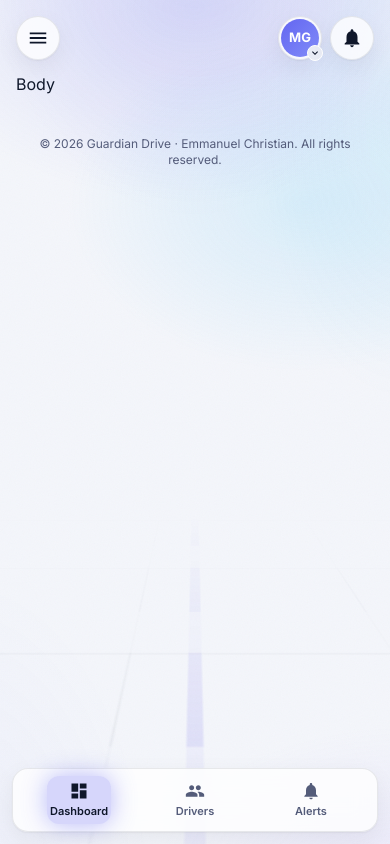
Test: menu toggle › phones get a ☰ drawer with every page, help and log out
The image size is (390, 844).
Click the button with test id "drawer-toggle" at (38, 38), box [16, 16, 60, 60]
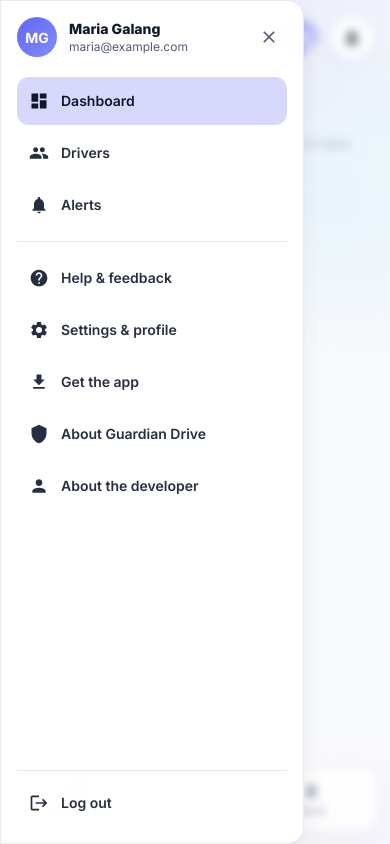
Expected: the navigation bar with test id "menu-drawer" shows "Drivers", [17, 129, 287, 177]
Expected: the navigation bar with test id "menu-drawer" shows "Help & feedback", [17, 254, 287, 302]
Expected: the navigation bar with test id "menu-drawer" shows "Log out", [17, 779, 287, 827]
